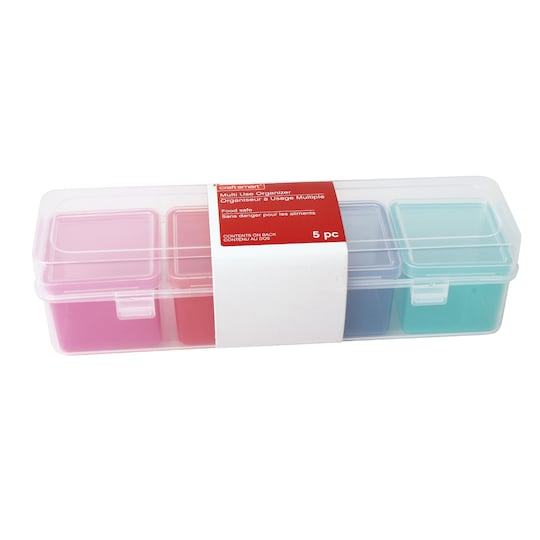PlasticBox: (24, 167, 529, 365)
